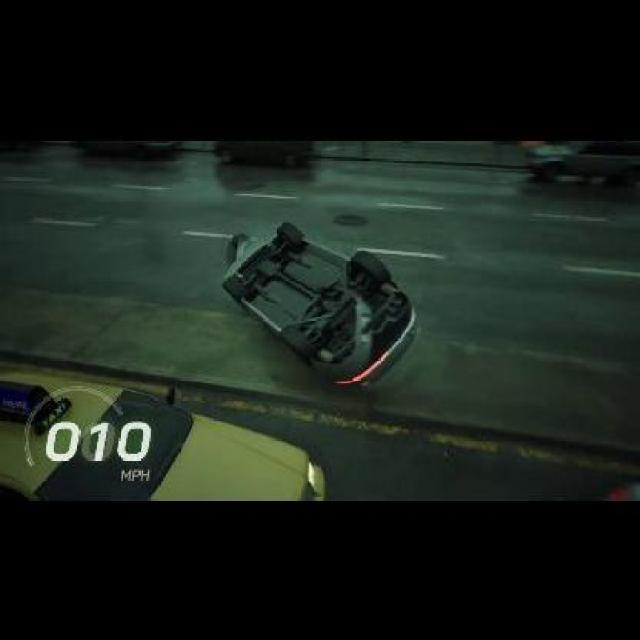accident: (213, 207, 424, 396)
